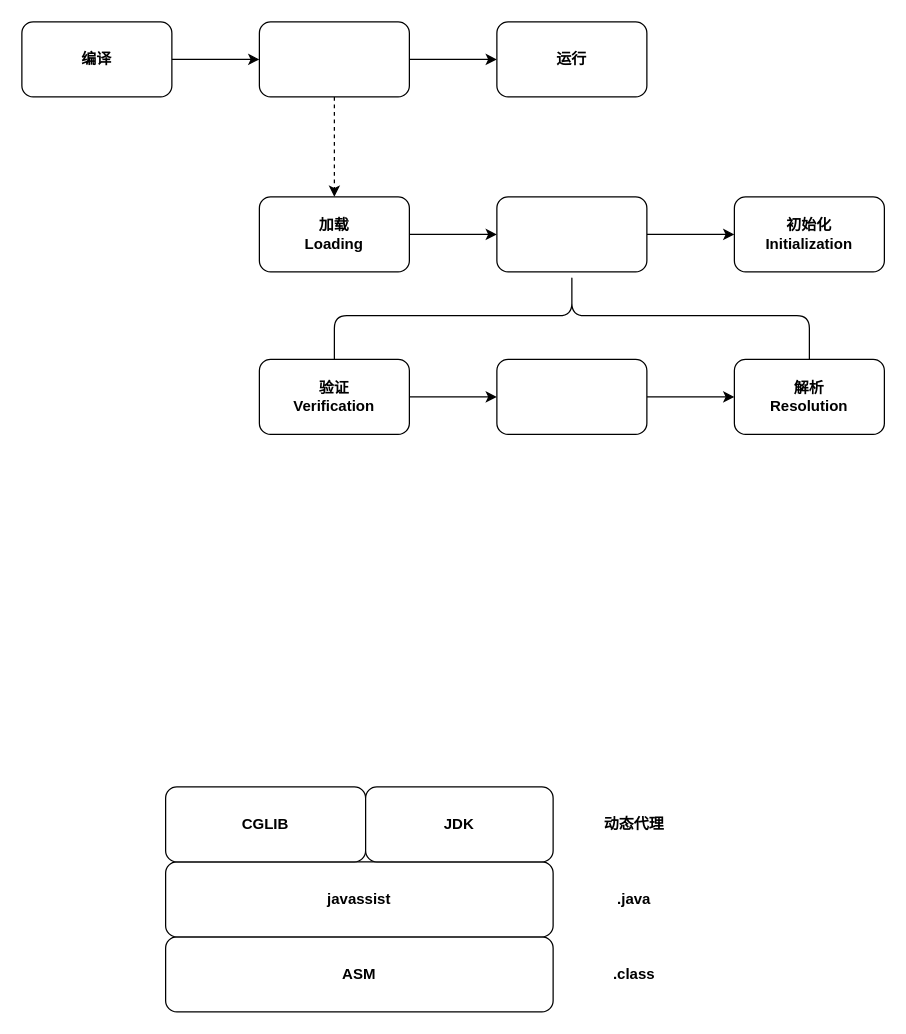
Image size: 906x1034. Some labels were removed from this diagram. The shapes that lost their labels are listed below. From the top down, each one's box as (x1, y1, x2, y2) in pixels, then its label:
(258, 21, 409, 97): 加载
(496, 196, 647, 272): 链接 Linking
(496, 358, 647, 434): 准备 Preparation
